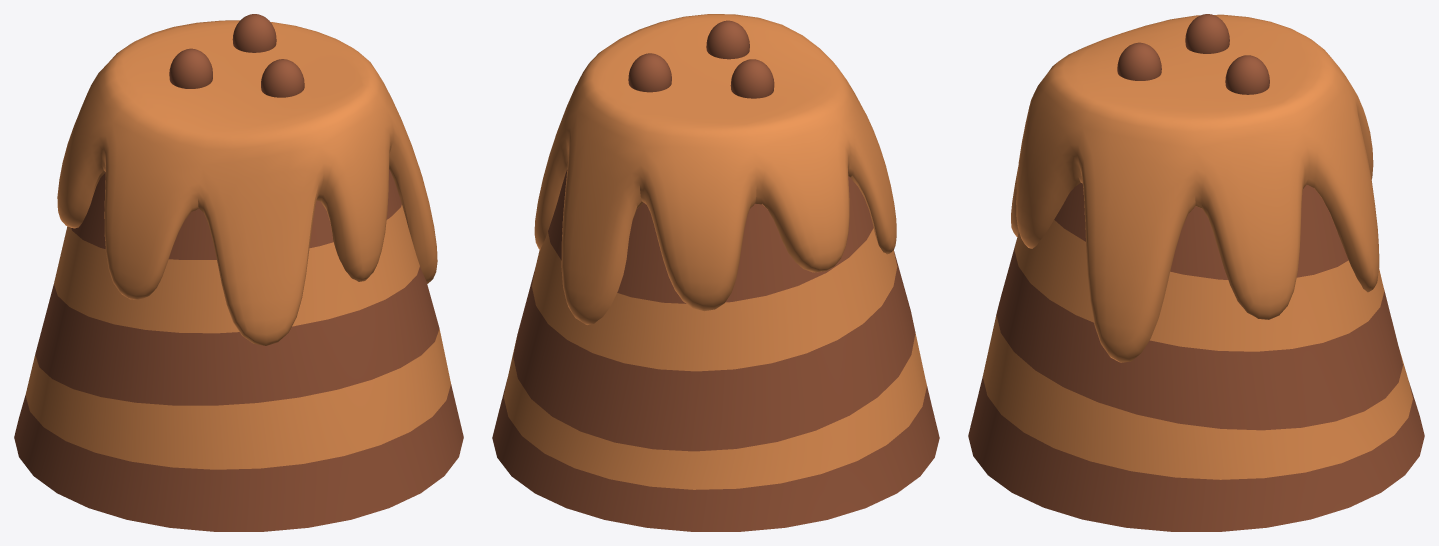
The model's file is Sweet_6.fbx.
The picture shows the model from 3 angles, left to right: view 1: azimuth 30°, elevation 25°; view 2: azimuth 150°, elevation 25°; view 3: azimuth 270°, elevation 25°; orthographic projection. The views are drawn at different scales.
Parts seen in each view (by area): view 1: Sweet_6; view 2: Sweet_6; view 3: Sweet_6.
Part boxes in pixels (x1,y1,x2,y2): Sweet_6: (14,14,463,531); Sweet_6: (492,14,939,531); Sweet_6: (968,14,1424,531).
Bounding box in the file's own units: 67.3 × 65.29 × 67.67.
